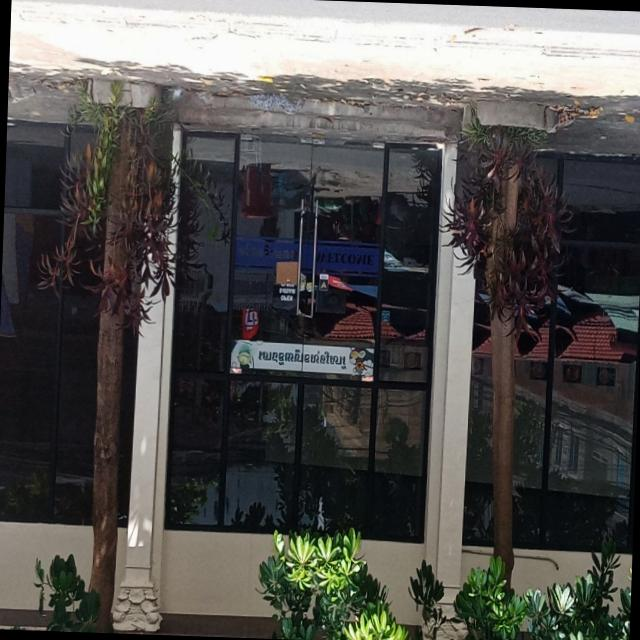Yolov11kh: (248, 340, 350, 374)
